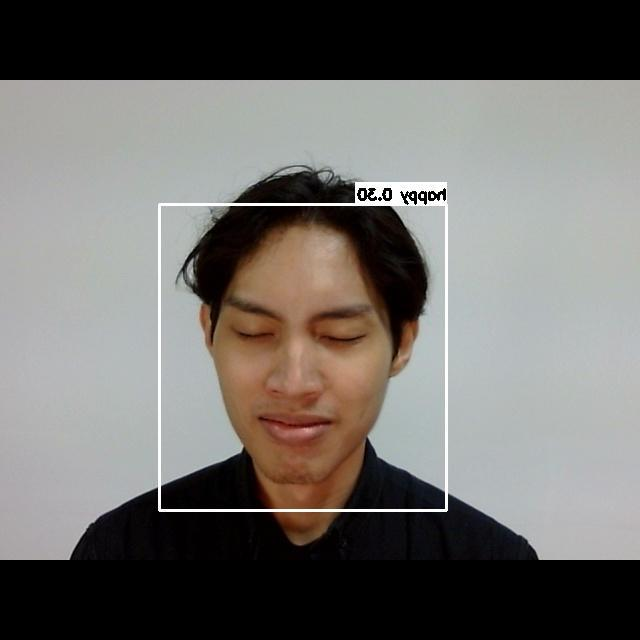Sad: (210, 285, 389, 456)
